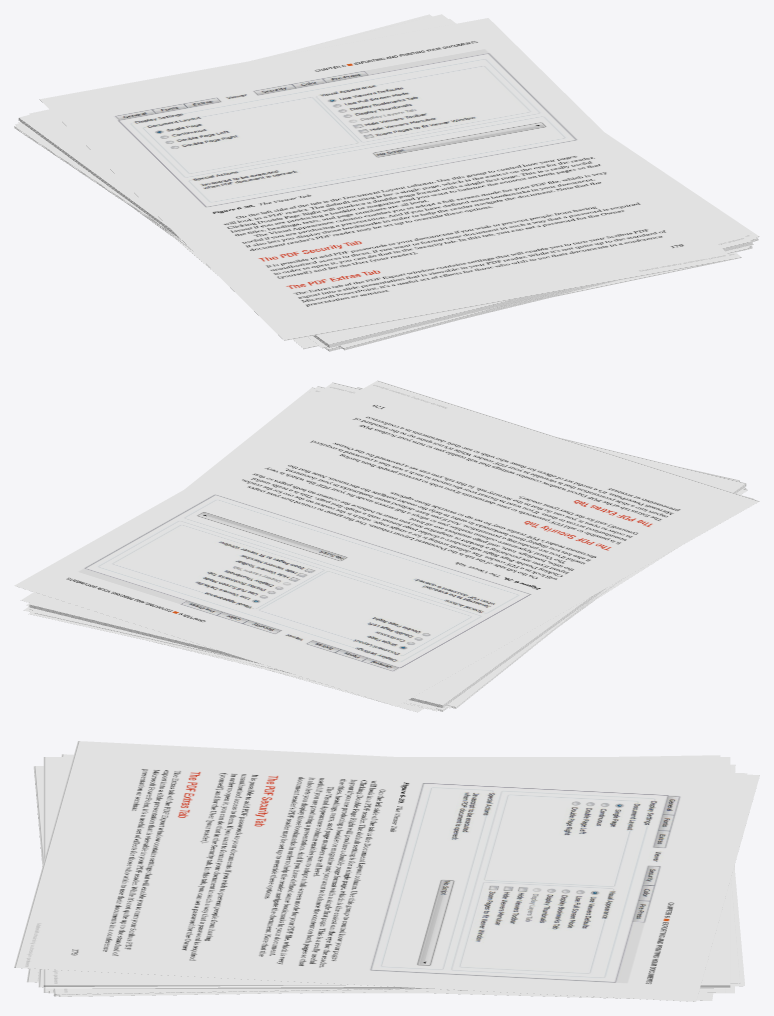
Rendered from Paper_Stack.fbx.
3 views of the same model, one above another, from view 1: azimuth 30°, elevation 25°; view 2: azimuth 150°, elevation 25°; view 3: azimuth 270°, elevation 25° (orthographic). The views are drawn at different scales.
Visible parts, largest first — view 1: Plane.015; view 2: Plane.015; view 3: Plane.015.
Boxes of the visible parts, left/top/right/bottom form: Plane.015: left=14, top=14, right=759, bottom=351; Plane.015: left=14, top=380, right=759, bottom=712; Plane.015: left=14, top=741, right=759, bottom=1001.
Size of the model in its own units: 24.01 by 0.3254 by 29.
1 material, 1 textured.
